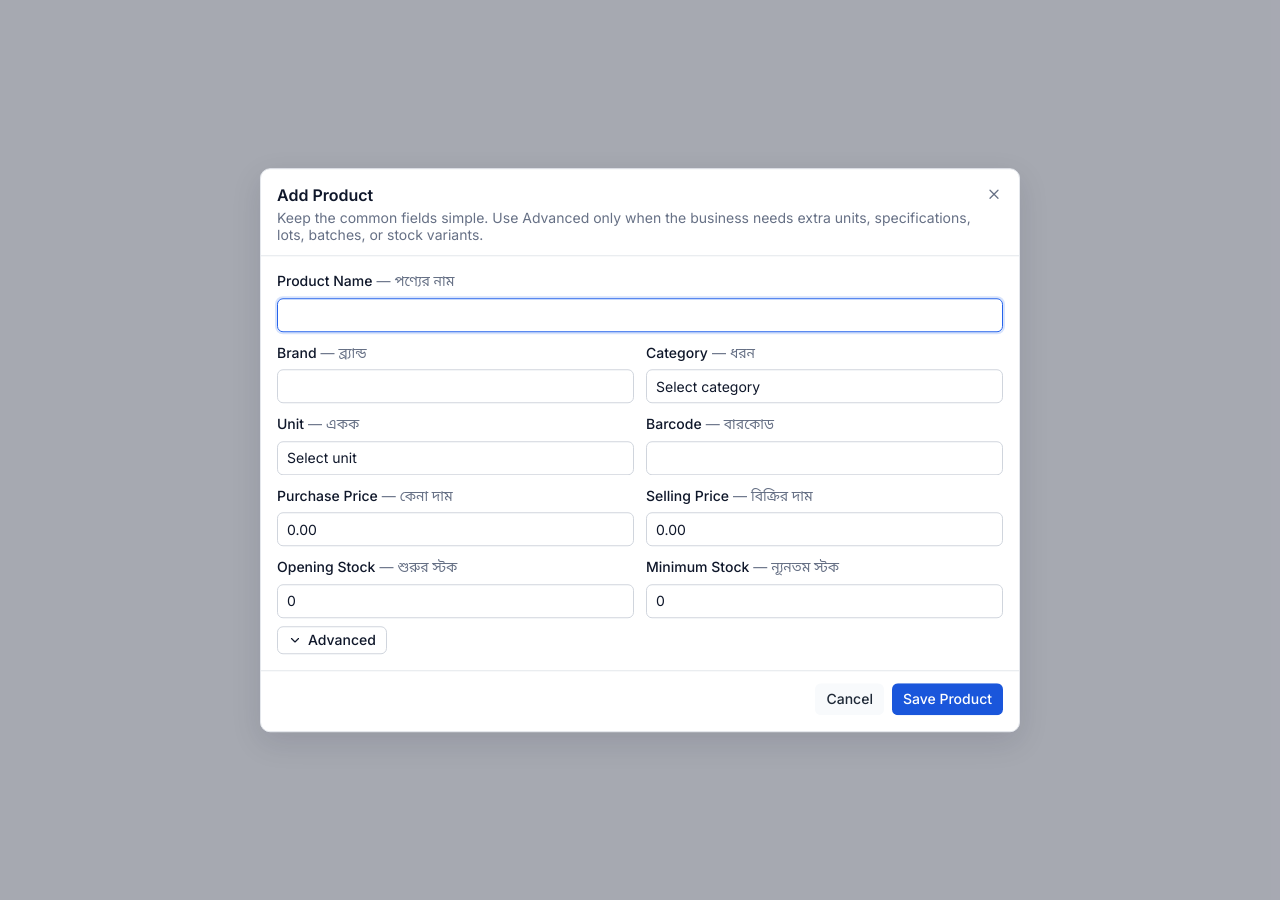
Test: ProductFormDialog › adds a shared unit inside conversion setup without losing the Product form
This screenshot has width=1280, height=900.
Type "Fabric Roll" into the field labelled "Product Name" at coordinates (640, 315), box [277,298,1003,332]
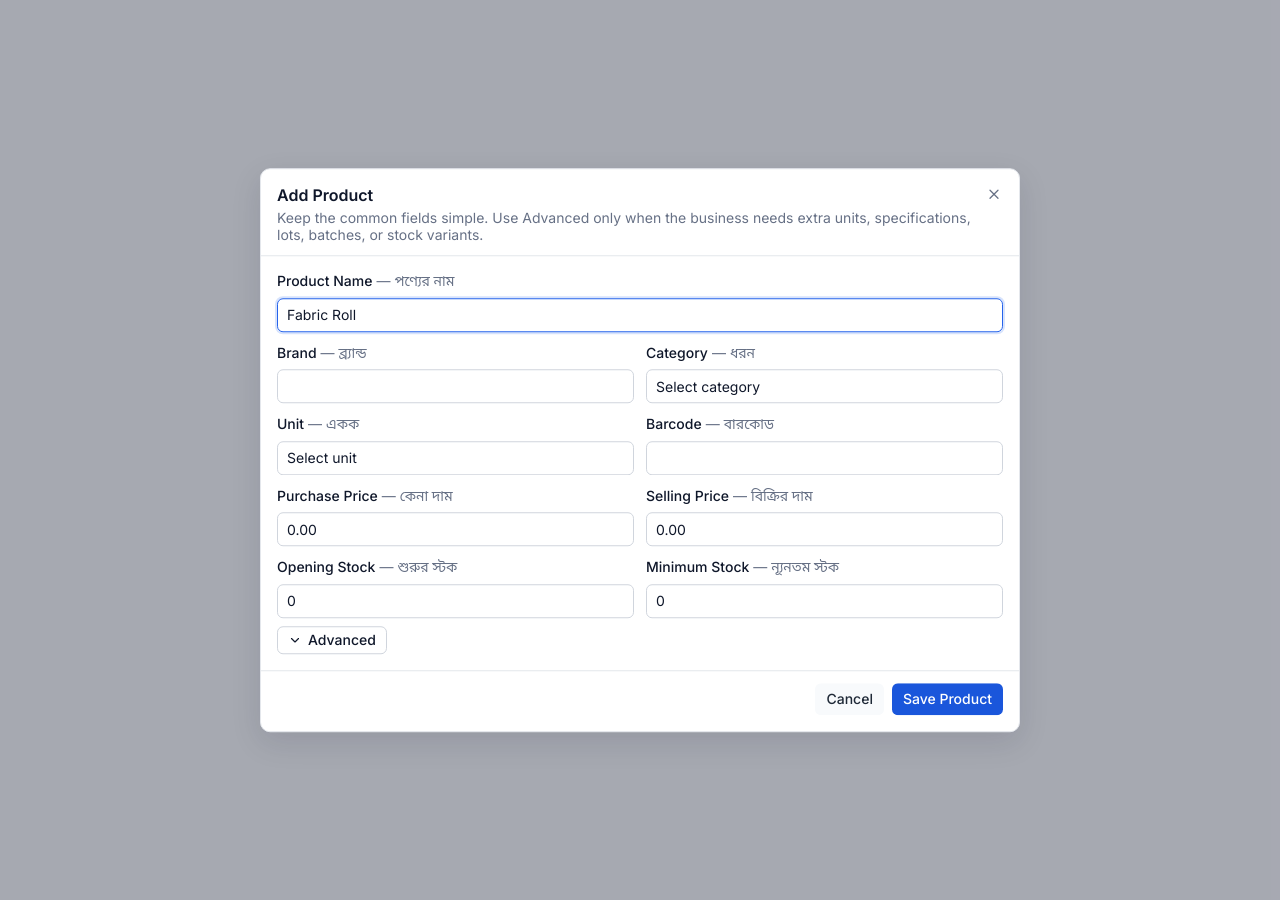
Click the button "Advanced" at coordinates (332, 640), box [277,626,387,654]
(page scrolled)
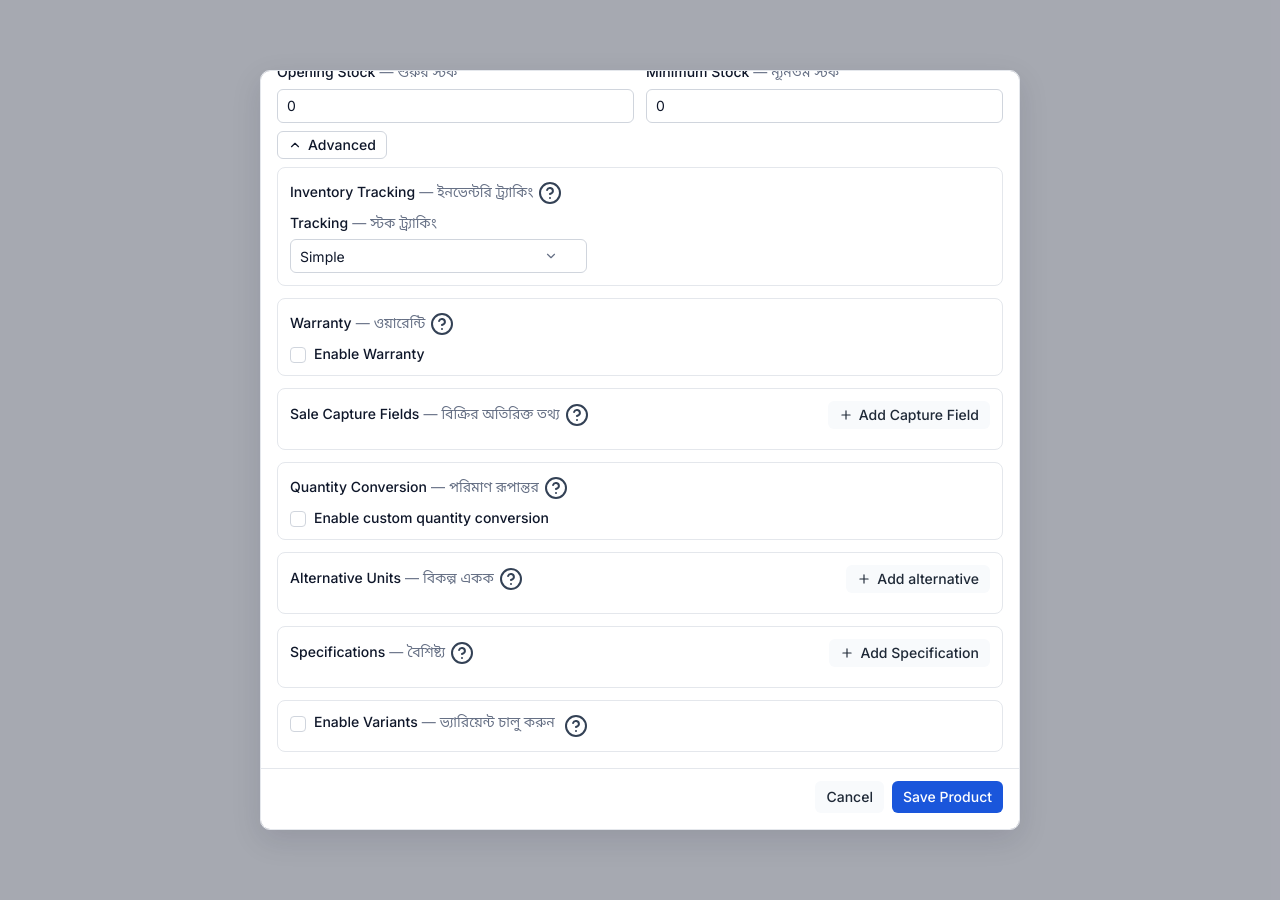
Click the checkbox named "Enable custom quantity conversion" at coordinates (298, 519), box [290,511,306,527]
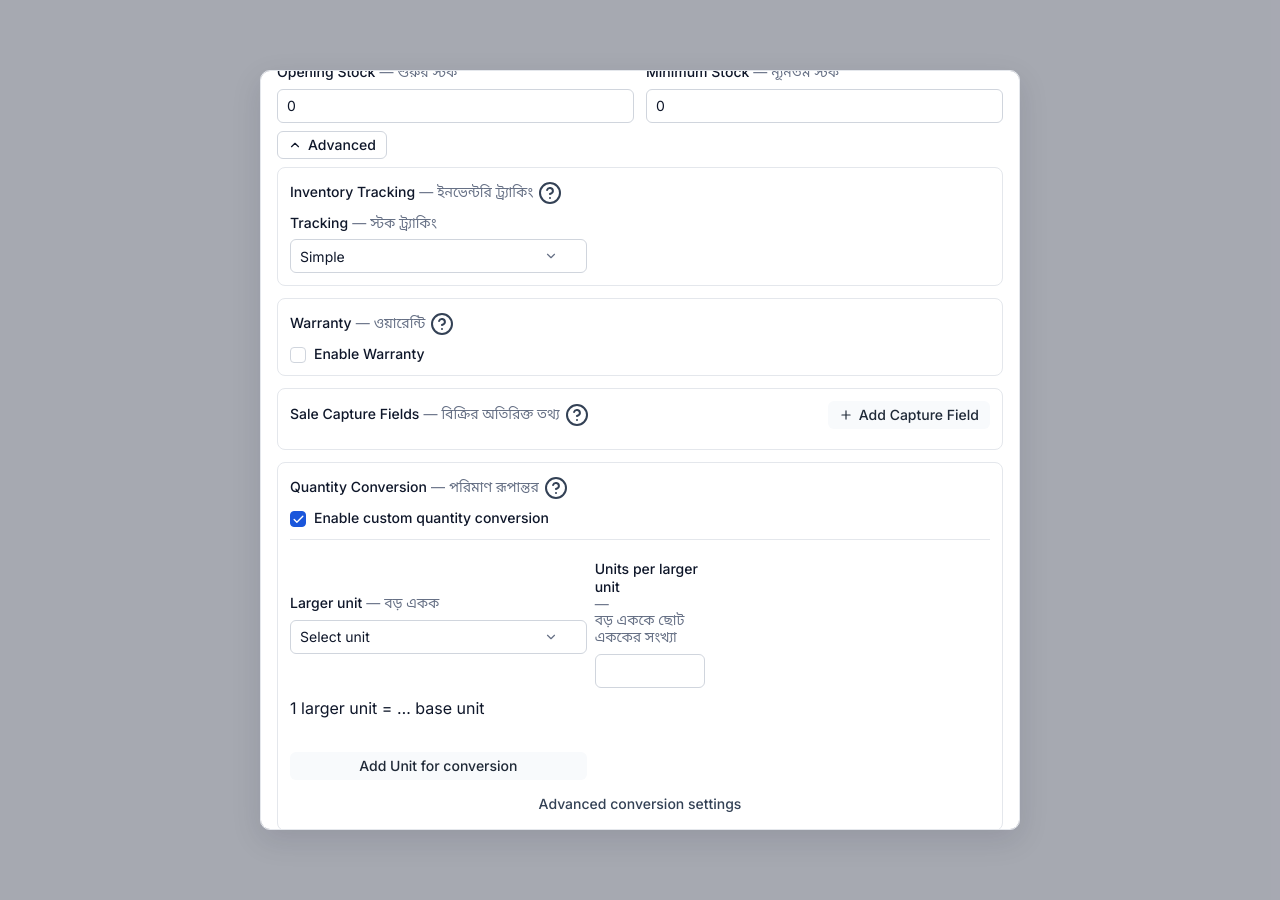
Click the button "Add Unit for conversion" at coordinates (438, 766), box [290,752,587,780]
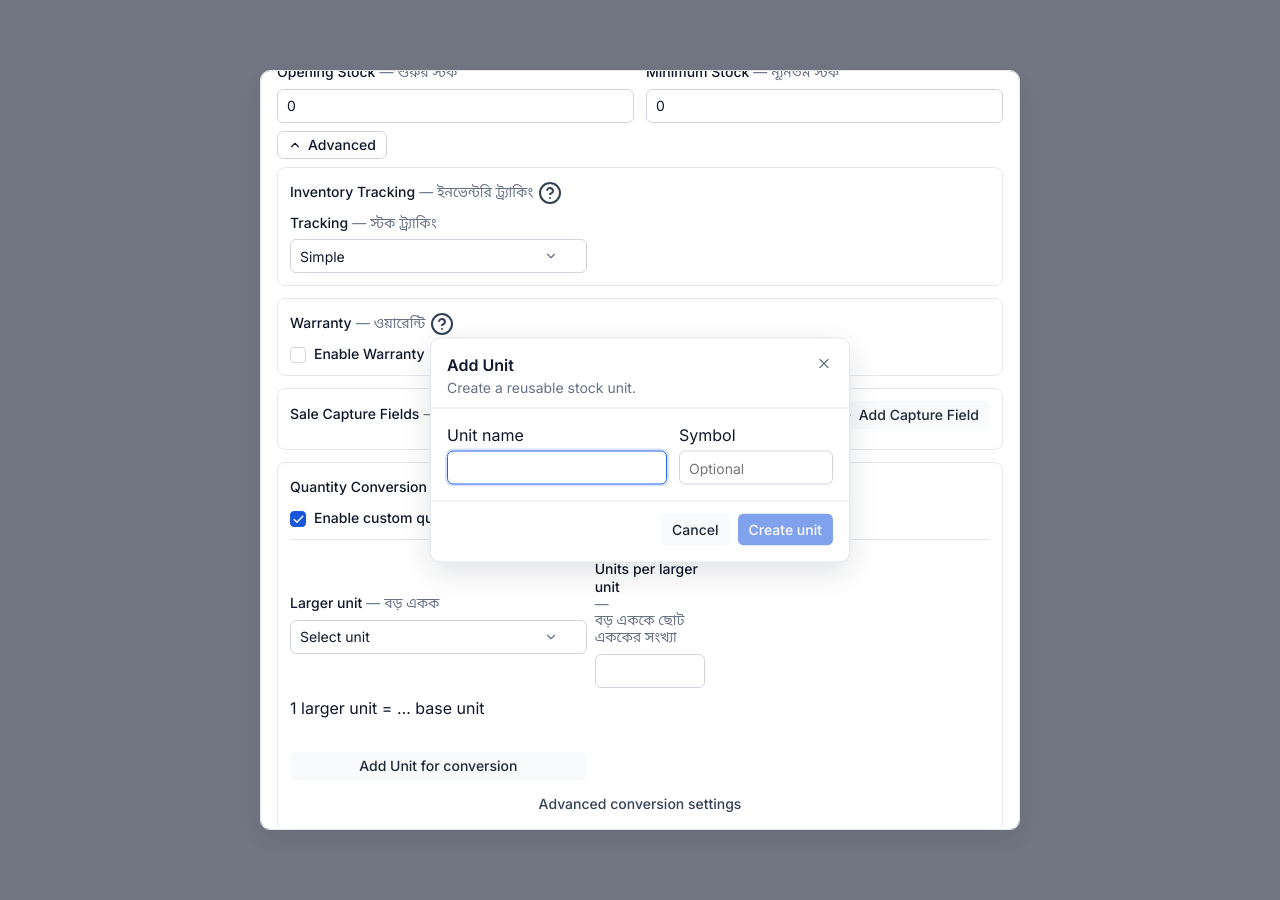
Type "Box" into the field named "New unit name" at coordinates (557, 468), box [447,450,667,484]
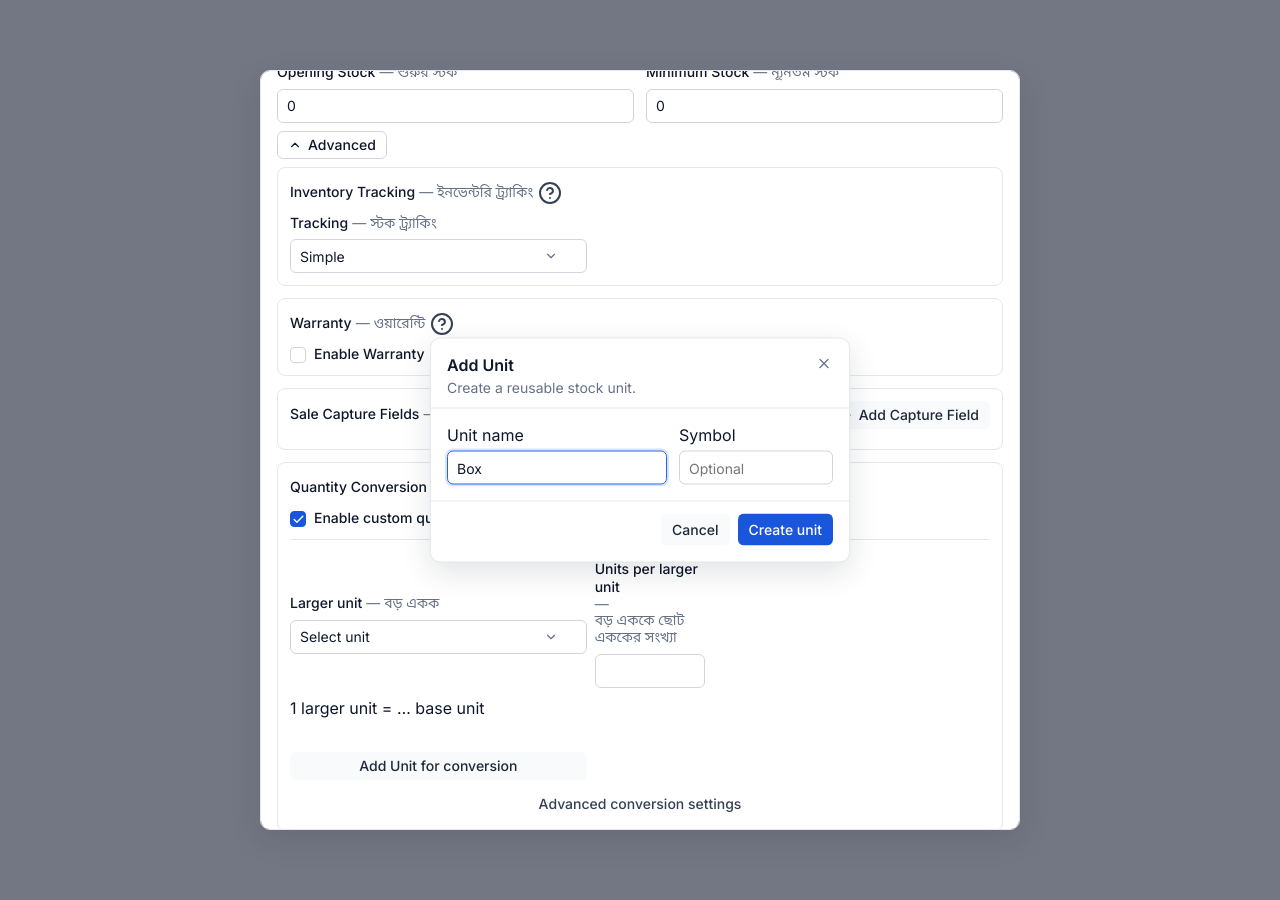
Click the button "Create unit" at coordinates (785, 530), box [738,514,833,546]
(page scrolled)
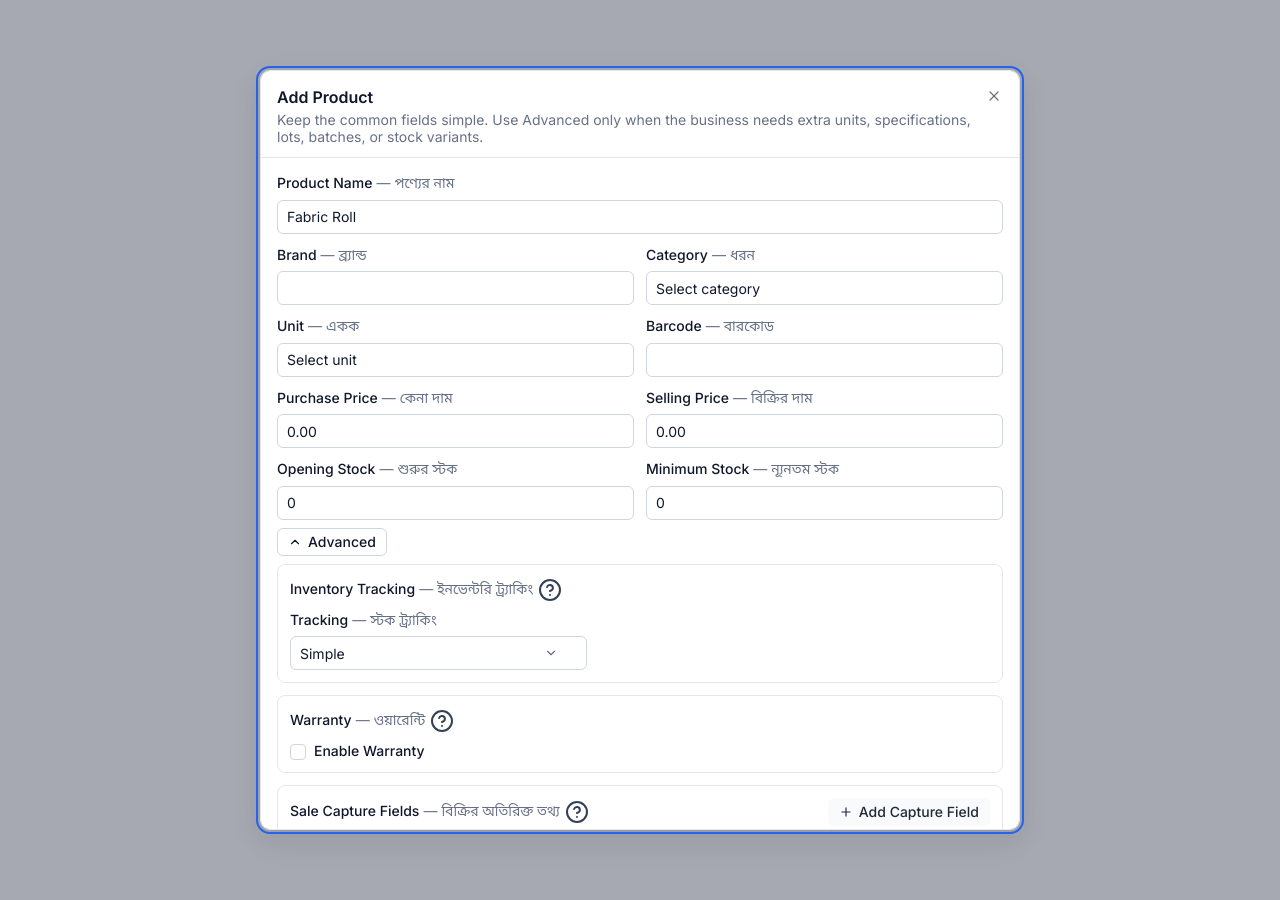
expect the button "Add Unit" is gone: met
